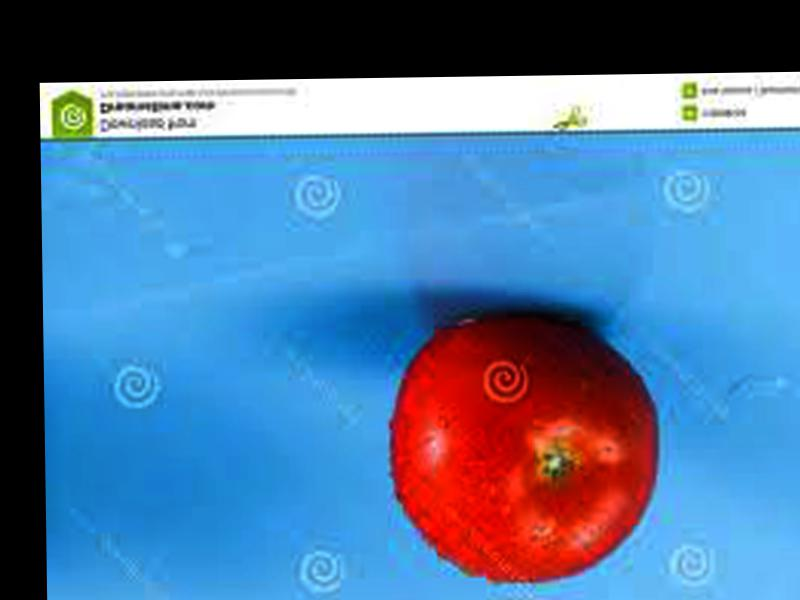Tomato: (388, 315, 664, 584)
